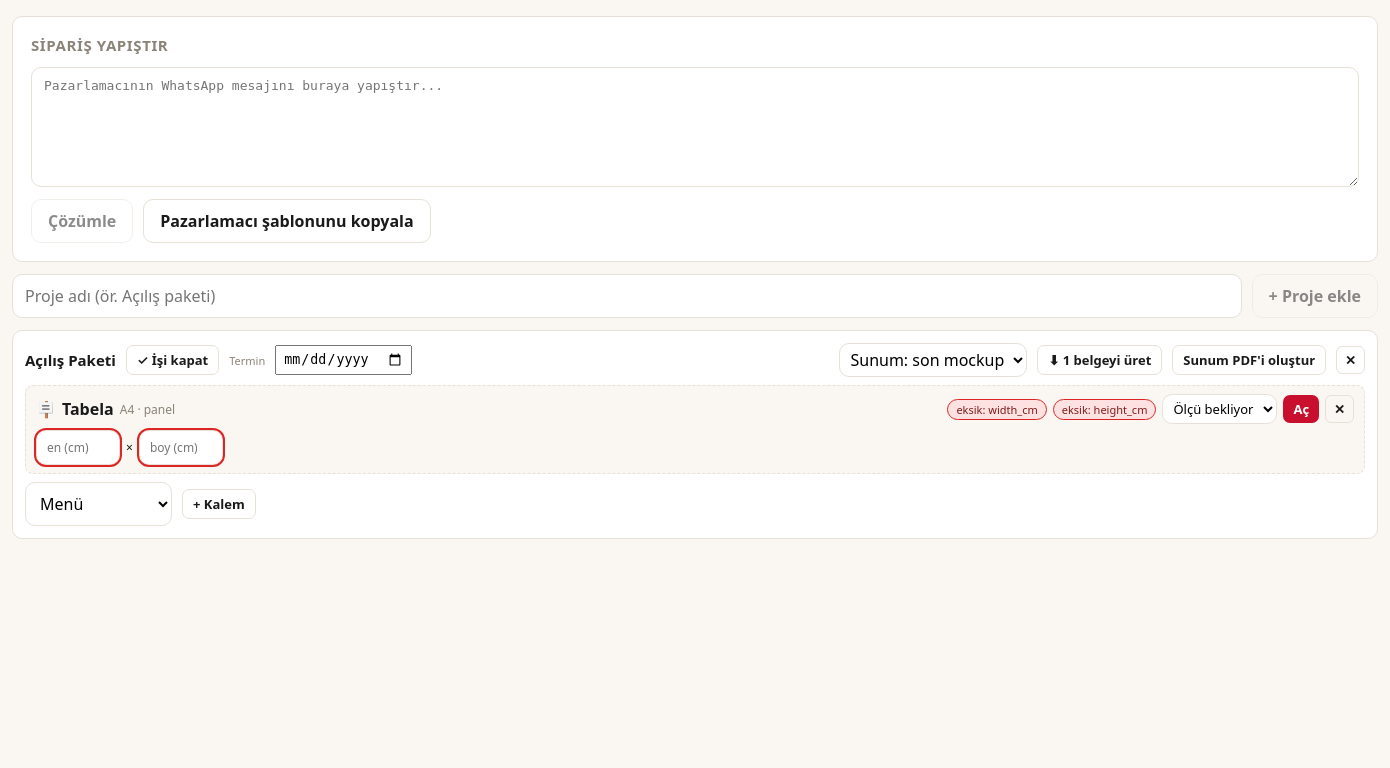
Test case: toplu aktarım sonucu › SONUÇ KALICI PANELDE görünür — toast DEĞİL, ve gerekçe kendi satırında
Click the button "⬇ 1 belgeyi üret". click: (1100, 360)
box: [1038, 345, 1162, 375]
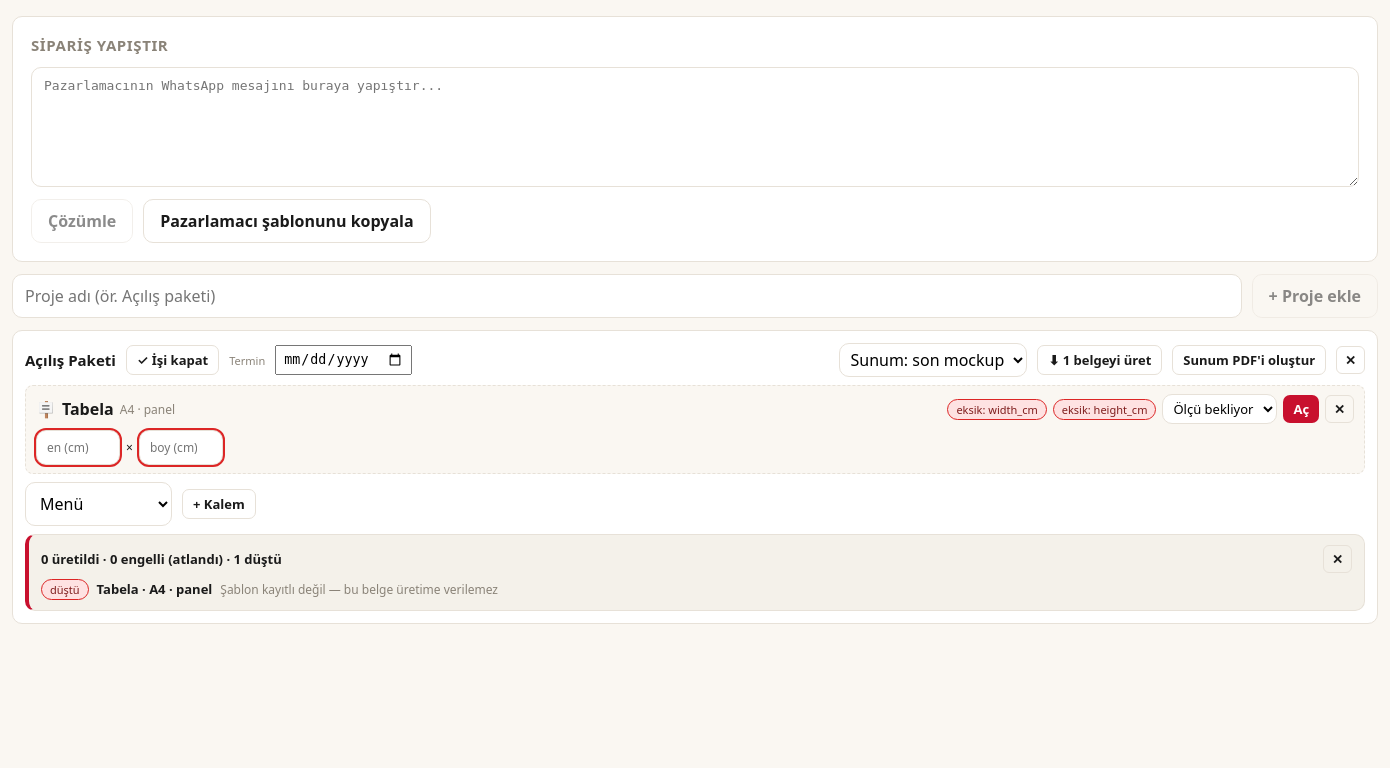
Expected: the element with class "tur-sonucu" does not show ""
Now the number of elements with class "tur-sonucu-satir" is 1, box [41, 579, 498, 600]
Now the element with class "tur-sonucu" shows "Şablon kayıtlı değil", box [220, 581, 498, 598]
